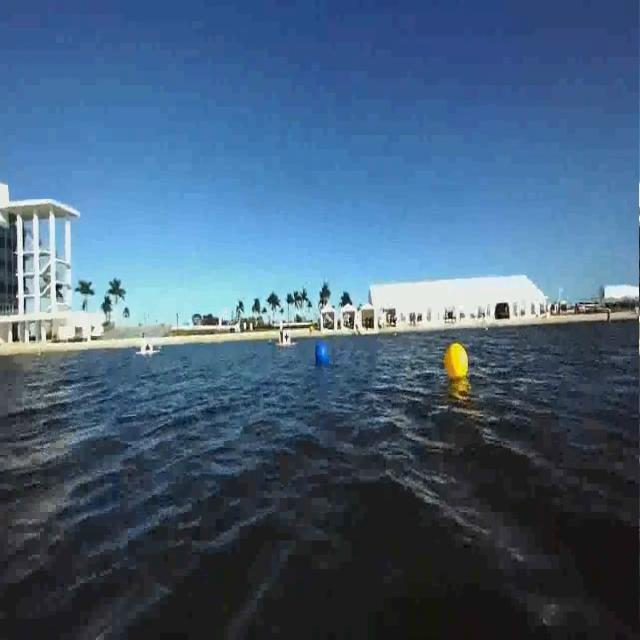blue-buoy: (313, 335, 333, 372)
yellow-buoy: (442, 333, 472, 391)
